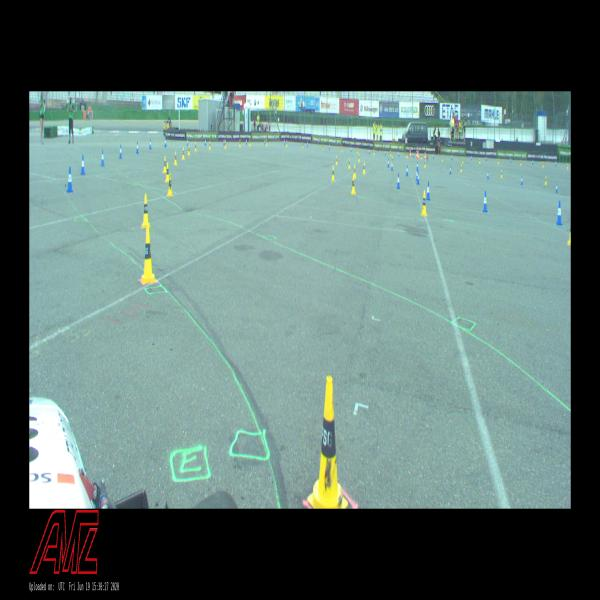blue_cone: (556, 201, 563, 225), (67, 167, 73, 192), (482, 191, 488, 212), (80, 155, 86, 175), (426, 182, 430, 200), (100, 150, 104, 166), (396, 173, 400, 188), (119, 145, 123, 158), (416, 171, 419, 184), (149, 138, 152, 150), (387, 158, 390, 167), (416, 168, 418, 180), (136, 141, 138, 152), (391, 160, 393, 171), (406, 165, 408, 176), (556, 183, 558, 193), (223, 138, 225, 146), (187, 138, 189, 146), (416, 162, 418, 170), (449, 166, 451, 174), (521, 176, 522, 185), (165, 138, 166, 146), (205, 138, 206, 146), (487, 171, 488, 179)
yellow_cone: (308, 376, 348, 508), (141, 226, 156, 283), (142, 194, 150, 227), (421, 190, 427, 215), (168, 173, 173, 196), (351, 176, 356, 194), (166, 163, 170, 183), (163, 156, 167, 173), (174, 151, 177, 165), (353, 164, 356, 178), (182, 148, 185, 159), (348, 158, 351, 169), (332, 166, 334, 180), (335, 156, 338, 164), (188, 144, 190, 155), (363, 162, 365, 173), (195, 142, 197, 152), (209, 140, 211, 150), (358, 153, 360, 162), (391, 156, 393, 164), (424, 160, 426, 168), (460, 164, 462, 172), (239, 140, 241, 148), (545, 176, 546, 185), (225, 140, 226, 149), (501, 170, 502, 178)
